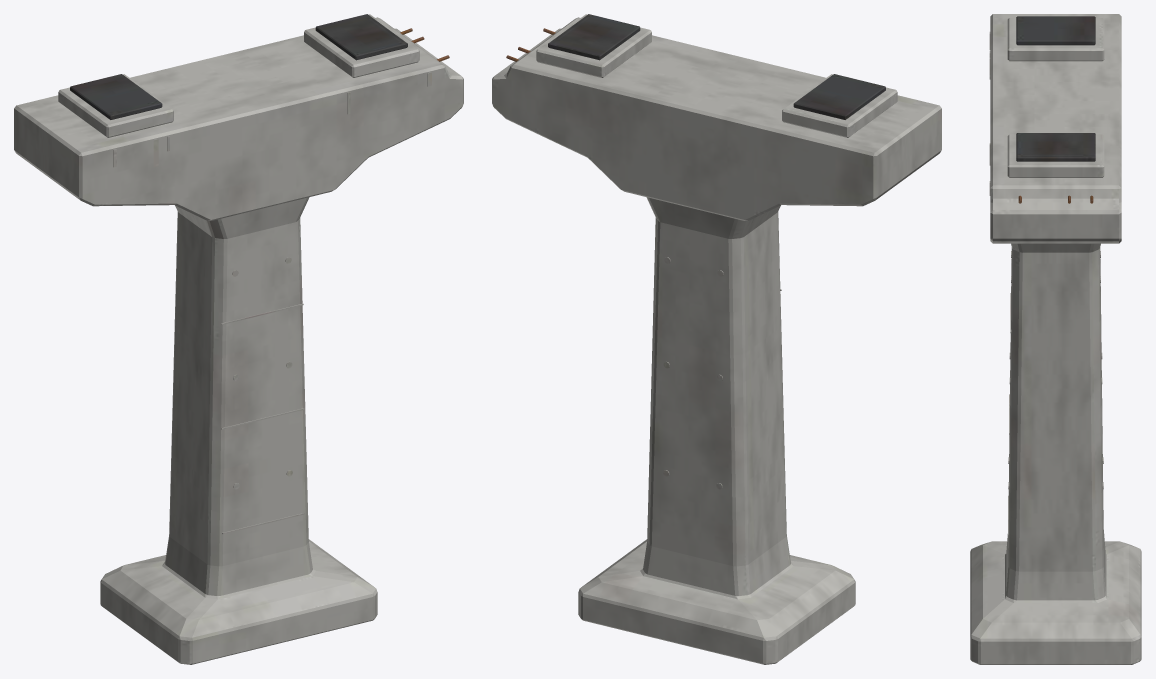
File: RE10_flyover_pillar.glb
3 views of the same model, side by side, from view 1: azimuth 30°, elevation 25°; view 2: azimuth 150°, elevation 25°; view 3: azimuth 270°, elevation 25° (orthographic). The views are drawn at different scales.
Parts seen in each view (by area): view 1: Concrete_pier_and_spread_footing; view 2: Concrete_pier_and_spread_footing; view 3: Concrete_pier_and_spread_footing.
Boxes of the visible parts, x1,y1,x2,y2 form: Concrete_pier_and_spread_footing: [14, 14, 463, 664]; Concrete_pier_and_spread_footing: [492, 14, 941, 664]; Concrete_pier_and_spread_footing: [970, 14, 1141, 664].
Bounding box in the file's own units: 5.9 × 8 × 2.34.
Materials: 4 (4 with a texture image).
